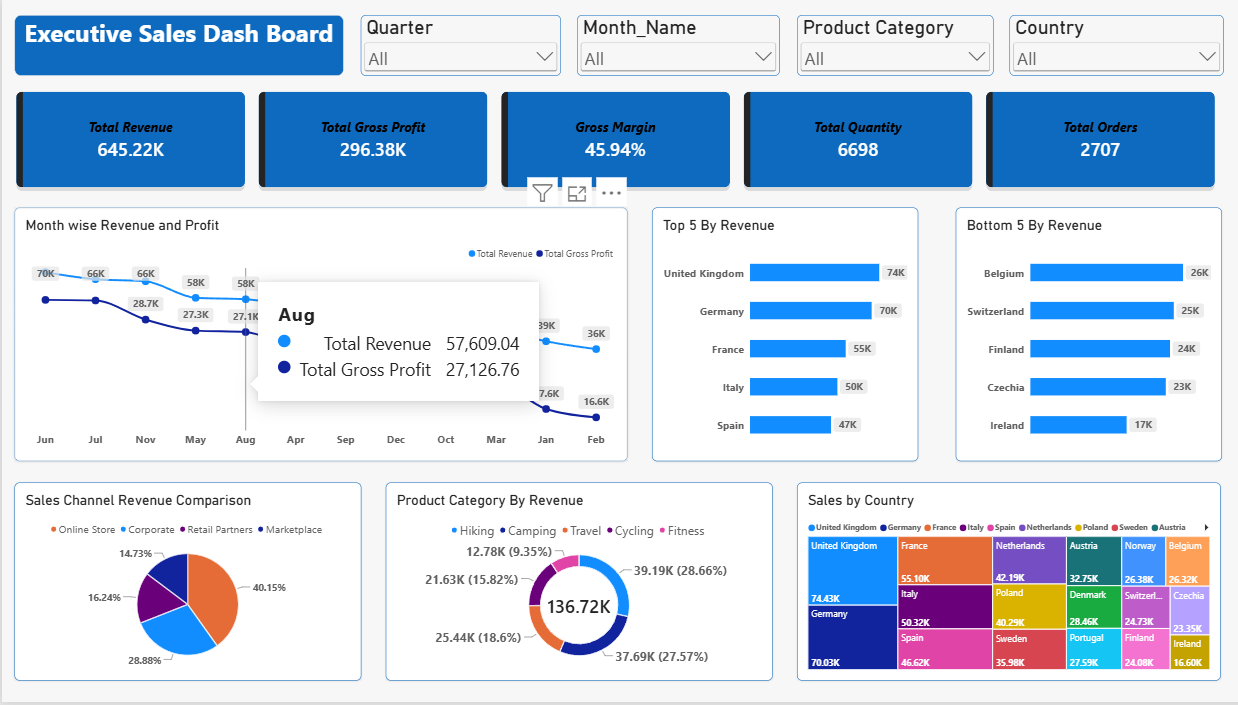

The page's visual inventory and layout, read from the dashboard file:
{"tool":"powerbi","page":{"name":"Page 1","canvas":[1920,1080],"ordinal":0},"visuals":[{"type":"cardVisual","fields":{"Data":["All_Measures.Total Revenue","All_Measures.Total Gross Profit","All_Measures.Gross Margin","All_Measures.Total Quantity","All_Measures.Total Orders"]},"box":[16,134,1861,160],"z":0},{"type":"textbox","box":[19.4,23.8,506.2,93.8],"z":1000},{"type":"slicer","fields":{"Values":["Date_Table.Quarter"]},"box":[552,23.5,308.1,93.9],"z":2000,"group":"g1"},{"type":"group","id":"g1","title":"Group 1","box":[552,23.5,1328.6,93.9],"z":2000},{"type":"slicer","fields":{"Values":["Date_Table.Month_Name"]},"box":[885.6,23.5,312,93.9],"z":3000,"group":"g1"},{"type":"lineChart","title":"Month wise Revenue and Profit","fields":{"Category":["Date_Table.Month_Name"],"Y":["All_Measures.Total Revenue"],"Y2":["All_Measures.Total Gross Profit"]},"box":[19,319,942.9,390.5],"z":3000},{"type":"slicer","fields":{"Values":["Sales_Data.Product Category"]},"box":[1223.2,23.5,302.2,93.9],"z":4000,"group":"g1"},{"type":"clusteredBarChart","title":"Top 5 By Revenue","fields":{"Category":["Sales_Data.Country"],"Y":["All_Measures.Total Revenue"]},"box":[1000,319,409.8,390.5],"z":4000},{"type":"slicer","fields":{"Values":["Sales_Data.Country"]},"box":[1550.9,23.5,329.7,93.9],"z":5000,"group":"g1"},{"type":"clusteredBarChart","title":"Bottom 5 By Revenue","fields":{"Category":["Sales_Data.Country"],"Y":["All_Measures.Total Revenue"]},"box":[1466.4,319,409.8,390.5],"z":5000},{"type":"pieChart","title":"Sales Channel Revenue Comparison ","fields":{"Category":["Sales_Data.Sales Channel"],"Y":["All_Measures.Total Revenue"]},"box":[19,742.9,533.3,304.8],"z":6000},{"type":"donutChart","title":"Product Category By  Revenue ","fields":{"Category":["Sales_Data.Product Category"],"Y":["All_Measures.Total Gross Profit"]},"box":[590.5,742.9,595.2,304.8],"z":7000},{"type":"treemap","title":"Sales by Country","fields":{"Group":["Sales_Data.Country"],"Values":["All_Measures.Total Revenue"]},"box":[1223.8,742.9,652.4,304.8],"z":8000}]}

Visuals, with their boxes in screenshot pixels (x1, y1, x2, y2), scaled from the page's 1920x1080 canvas onto the 1238x705 screenshot:
cardVisual - All_Measures.Total Revenue x All_Measures.Total Gross Profit: [left=10, top=87, right=1210, bottom=192]
textbox: [left=13, top=16, right=339, bottom=77]
slicer - Date_Table.Quarter: [left=356, top=15, right=555, bottom=77]
"Group 1" group: [left=356, top=15, right=1213, bottom=77]
slicer - Date_Table.Month_Name: [left=571, top=15, right=772, bottom=77]
"Month wise Revenue and Profit" lineChart: [left=12, top=208, right=620, bottom=463]
slicer - Sales_Data.Product Category: [left=789, top=15, right=984, bottom=77]
"Top 5 By Revenue" clusteredBarChart: [left=645, top=208, right=909, bottom=463]
slicer - Sales_Data.Country: [left=1000, top=15, right=1213, bottom=77]
"Bottom 5 By Revenue" clusteredBarChart: [left=946, top=208, right=1210, bottom=463]
"Sales Channel Revenue Comparison " pieChart: [left=12, top=485, right=356, bottom=684]
"Product Category By  Revenue " donutChart: [left=381, top=485, right=765, bottom=684]
"Sales by Country" treemap: [left=789, top=485, right=1210, bottom=684]
